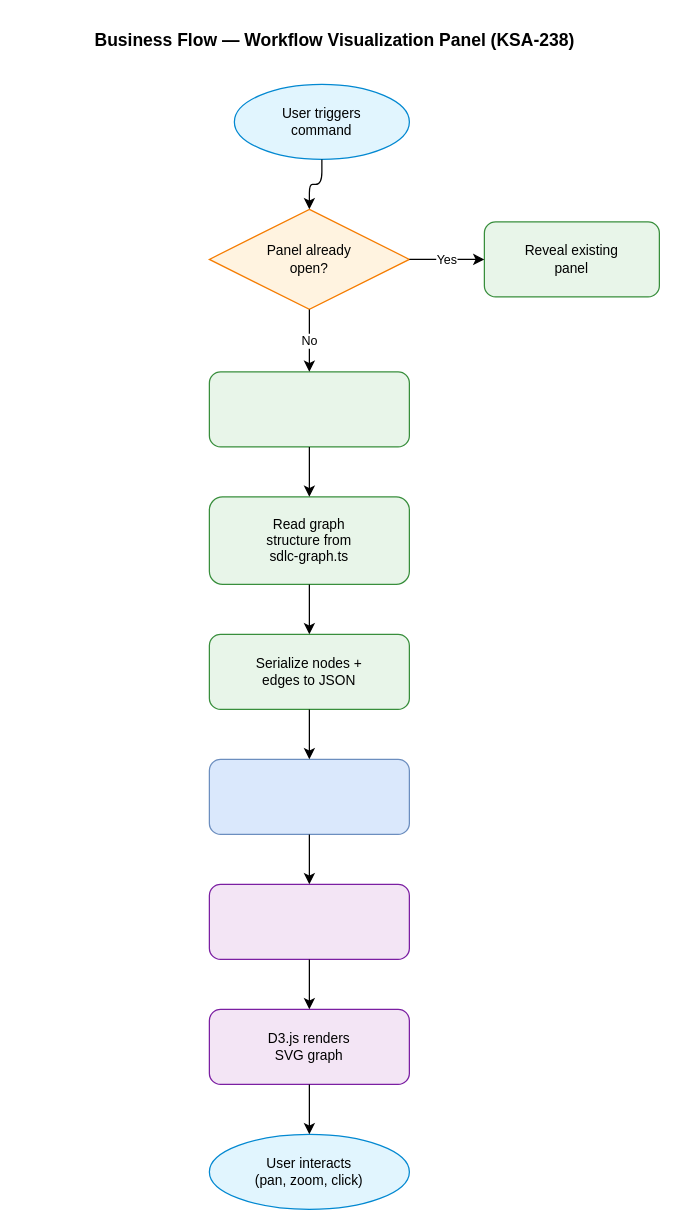
Some shapes in this 681 by 1231 pixel diagram are drawn without their labels. The shapes that lost their labels are listed below. From the top down, each one's centre as x and y in pixels, then its label:
At (308,409): "Create webview panel".
At (308,796): "postMessage to webview".
At (308,921): "dagre computes layout positions".
